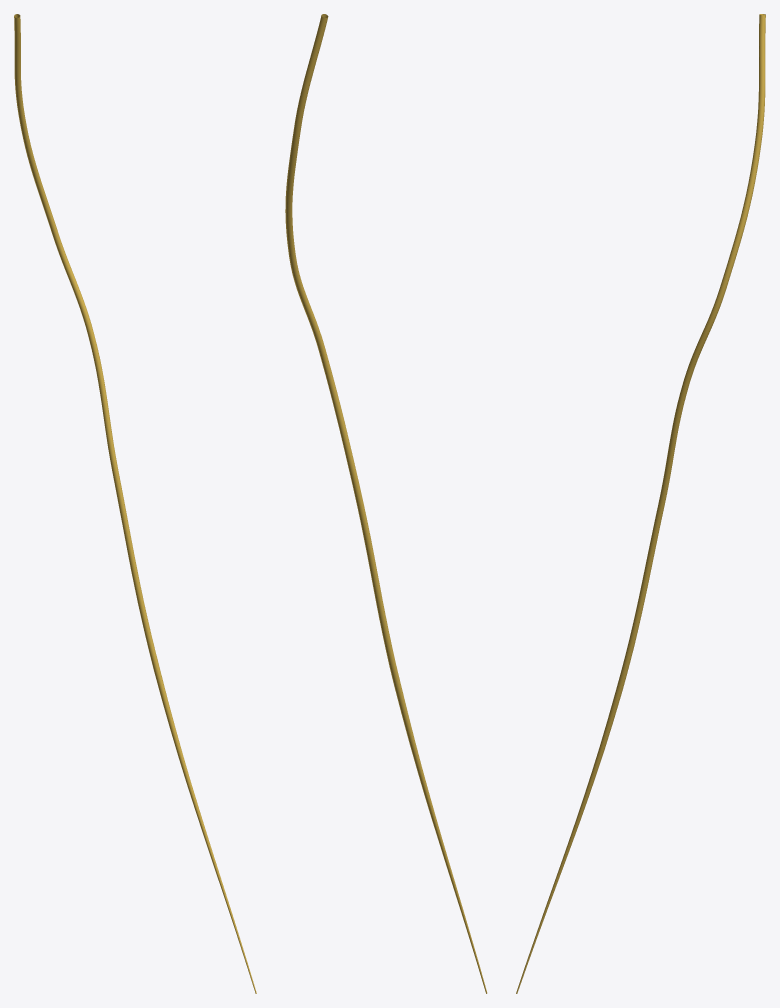
File: Posterior_interosseous_nerve_forearm_right.glb
3 renders of one model, left to right at view 1: azimuth 90°, elevation 25°; view 2: azimuth 150°, elevation 25°; view 3: azimuth 270°, elevation 25°, orthographic. The views are drawn at different scales.
Visible parts, largest first — view 1: Posterior_interosseus_nerve_of_forearm.r_BezierCurve.479; view 2: Posterior_interosseus_nerve_of_forearm.r_BezierCurve.479; view 3: Posterior_interosseus_nerve_of_forearm.r_BezierCurve.479.
Part boxes in pixels (left/top/right/bottom): Posterior_interosseus_nerve_of_forearm.r_BezierCurve.479: left=14, top=14, right=256, bottom=993; Posterior_interosseus_nerve_of_forearm.r_BezierCurve.479: left=285, top=14, right=487, bottom=993; Posterior_interosseus_nerve_of_forearm.r_BezierCurve.479: left=516, top=14, right=765, bottom=993.
Bounding box in the file's own units: 0.0143 × 0.1673 × 0.0381.
